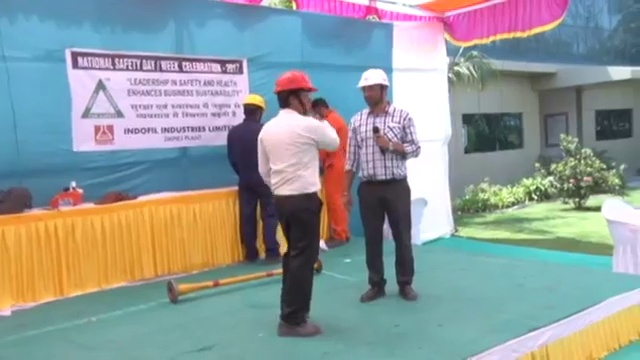helmet: (271, 69, 321, 94), (355, 66, 394, 88), (240, 94, 268, 111)
helmet_off: (310, 95, 333, 121)
helmet_on: (270, 68, 321, 119), (354, 66, 393, 115), (239, 92, 268, 123)
person: (258, 68, 339, 337), (345, 66, 420, 303), (228, 94, 283, 261), (311, 94, 353, 248)
